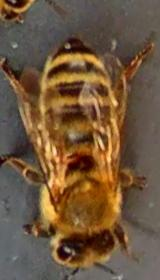varroa_mite: (58, 139, 98, 179)
